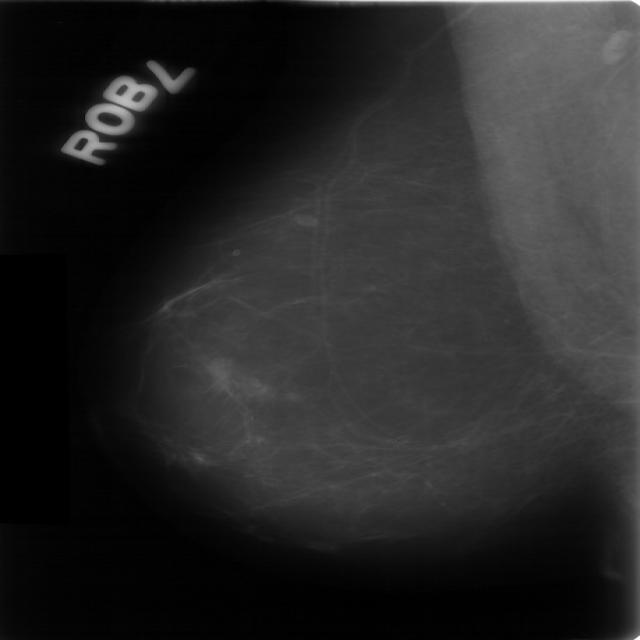tumour: (203, 353, 236, 391)
